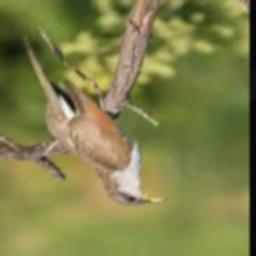Cuckoo: (24, 37, 166, 206)
